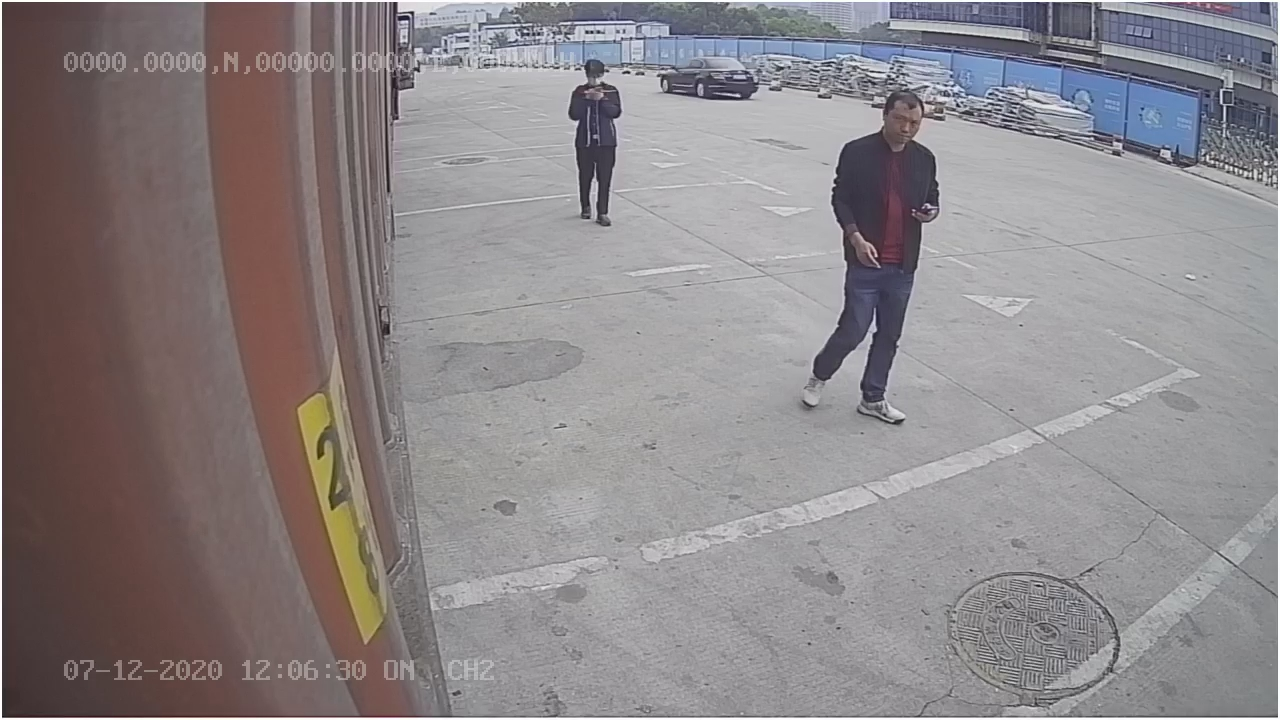person: (785, 81, 944, 428)
